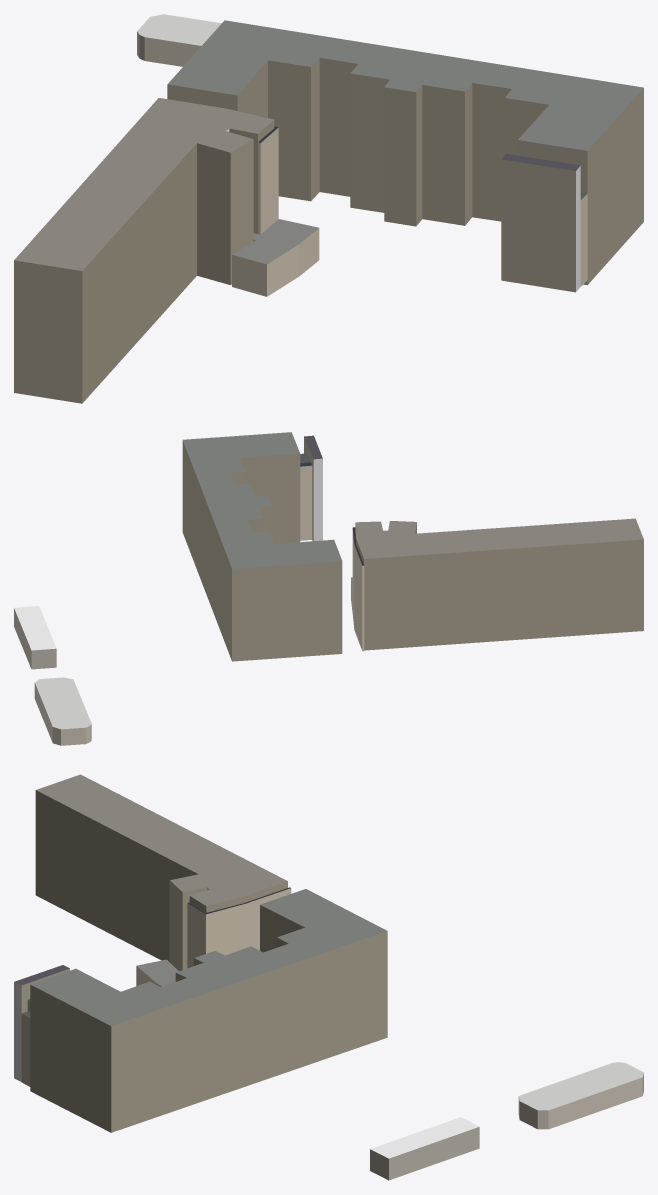
3 renders of one model, top to bottom at view 1: azimuth 30°, elevation 25°; view 2: azimuth 150°, elevation 25°; view 3: azimuth 270°, elevation 25°, orthographic. The views are drawn at different scales.
Parts seen in each view (by area): view 1: tuile; view 2: tuile; view 3: tuile.
Part boxes in pixels (x1,y1,x2,y2): tuile: (14,14,643,403); tuile: (14,432,643,745); tuile: (14,774,643,1180).
Bounding box in the file's own units: 158 × 33.53 × 150.
